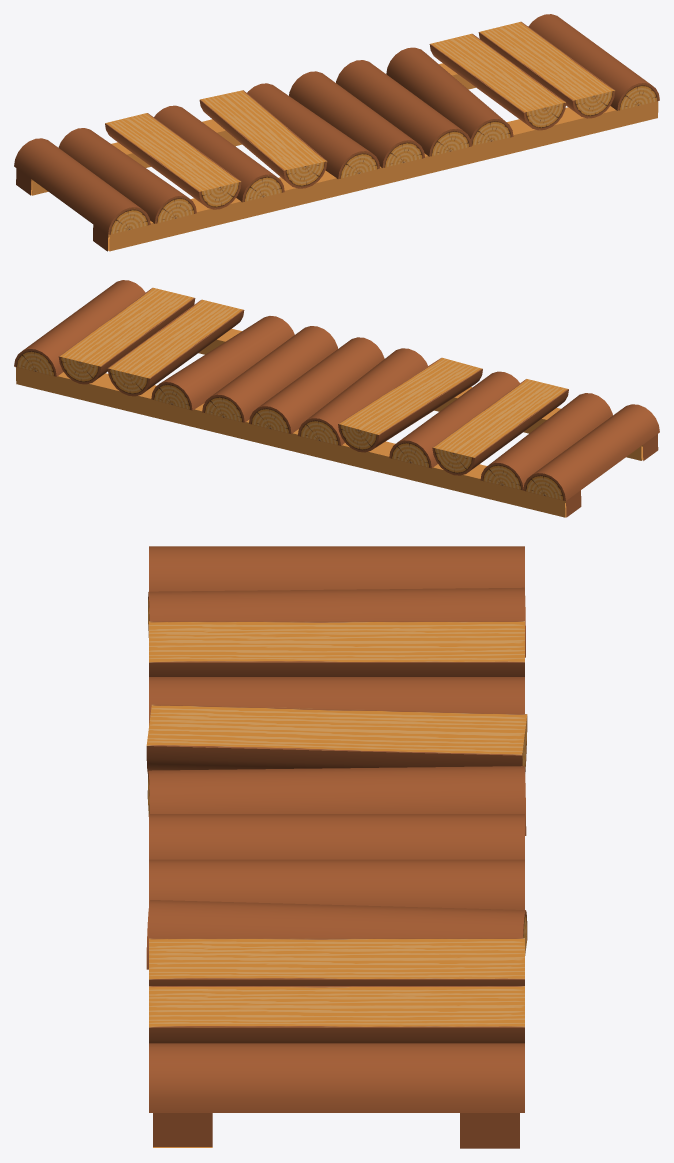
File: Bridge.fbx
3 renders of one model, top to bottom at view 1: azimuth 30°, elevation 25°; view 2: azimuth 150°, elevation 25°; view 3: azimuth 270°, elevation 25°, orthographic. The views are drawn at different scales.
Visible parts, largest first — view 1: Bridge_Hashi, Bridge_Yoko; view 2: Bridge_Hashi, Bridge_Yoko; view 3: Bridge_Hashi, Bridge_Yoko.
Part boxes in pixels (bbox=[...]): Bridge_Hashi: bbox=[14, 14, 659, 234]; Bridge_Yoko: bbox=[16, 63, 658, 251]; Bridge_Hashi: bbox=[14, 280, 659, 500]; Bridge_Yoko: bbox=[15, 328, 658, 517]; Bridge_Hashi: bbox=[146, 546, 527, 1112]; Bridge_Yoko: bbox=[153, 1113, 519, 1148].
Bounding box in the file's own units: 681 × 47.88 × 203.
1 material, 1 textured.
